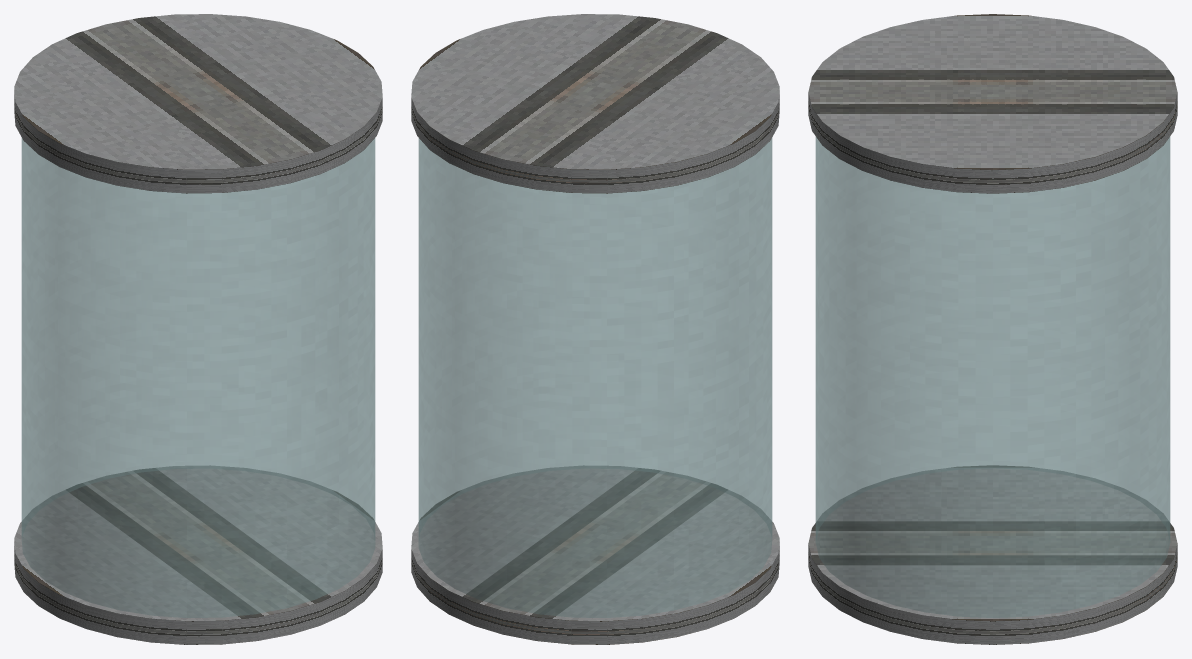
Rendered from cup.glb.
3 views of the same model, side by side, from view 1: azimuth 30°, elevation 25°; view 2: azimuth 150°, elevation 25°; view 3: azimuth 270°, elevation 25° (orthographic).
Parts seen in each view (by area): view 1: shell, rim (×2); view 2: shell, rim (×2); view 3: shell, rim (×2).
Part boxes in pixels (x1=…): shell: x1=21, y1=137, x2=375, y2=617; rim (×2): x1=14, y1=14, x2=382, y2=644; shell: x1=418, y1=137, x2=772, y2=617; rim (×2): x1=411, y1=14, x2=779, y2=644; shell: x1=815, y1=136, x2=1170, y2=617; rim (×2): x1=808, y1=14, x2=1177, y2=644.
Size of the model in its own units: 0.081 by 0.115 by 0.081.
3 materials, 3 textured.
